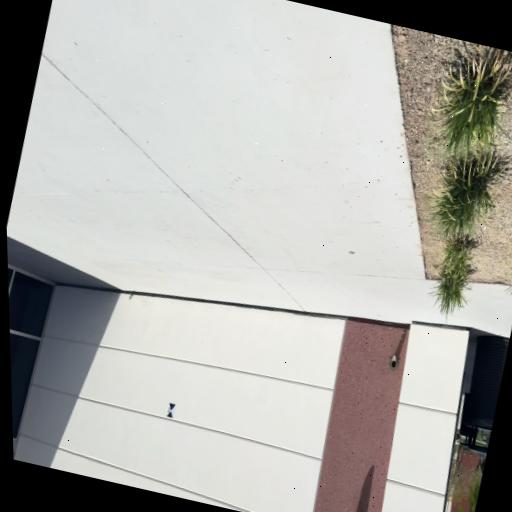target7: (166, 402, 176, 418)
